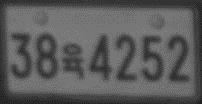2: (168, 33, 190, 82), (115, 33, 136, 81)
3: (9, 31, 33, 79)
4: (88, 33, 112, 82)
5: (141, 34, 164, 81)
8: (36, 32, 58, 79)
육: (61, 41, 86, 81)
